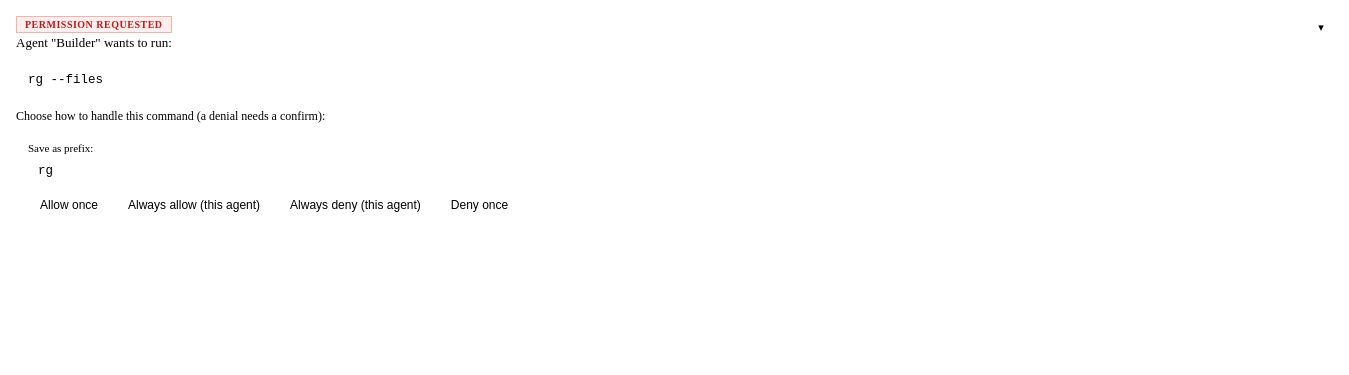
Test case: ApprovalCard — one optional reason for the denial › names the block rule on the confirm, because it outlives the request
Click the button "Always deny (this agent)": (355,205) [278,192,433,218]
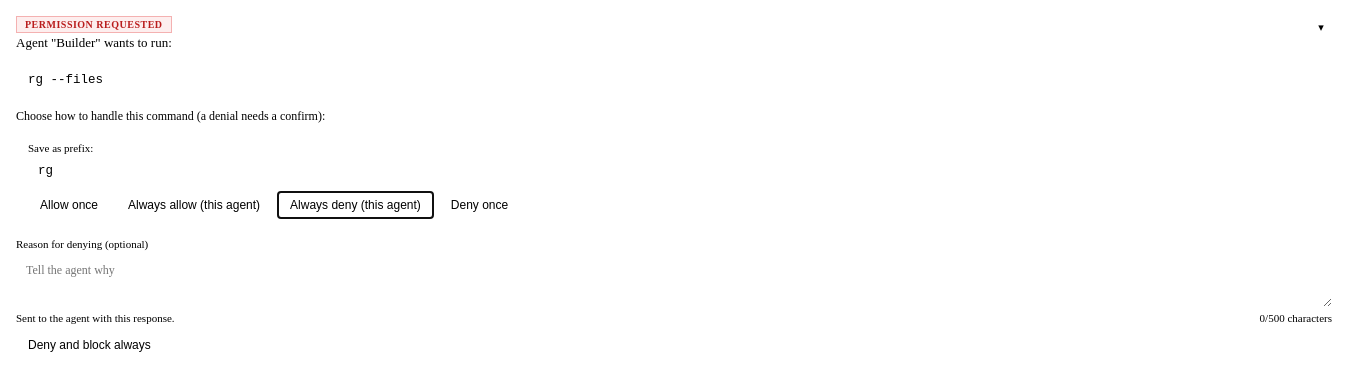
Check: the button "Deny and block always" is shown, box [16,332,163,358]
